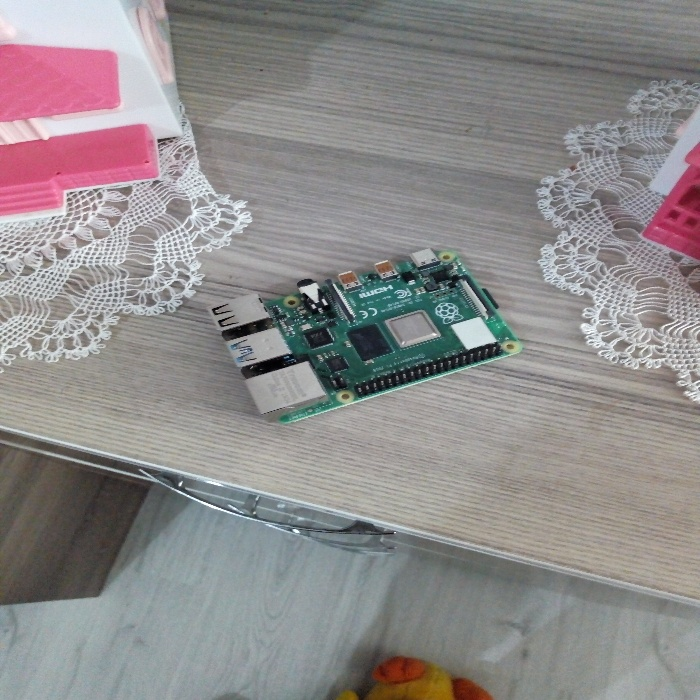raspberry: (191, 230, 524, 432)
